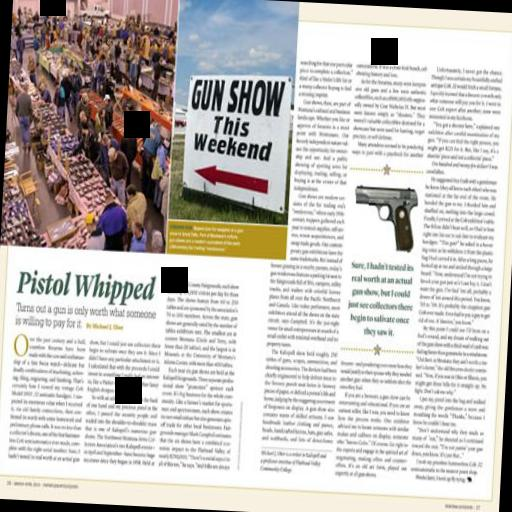Handgun: (349, 182, 416, 255)
